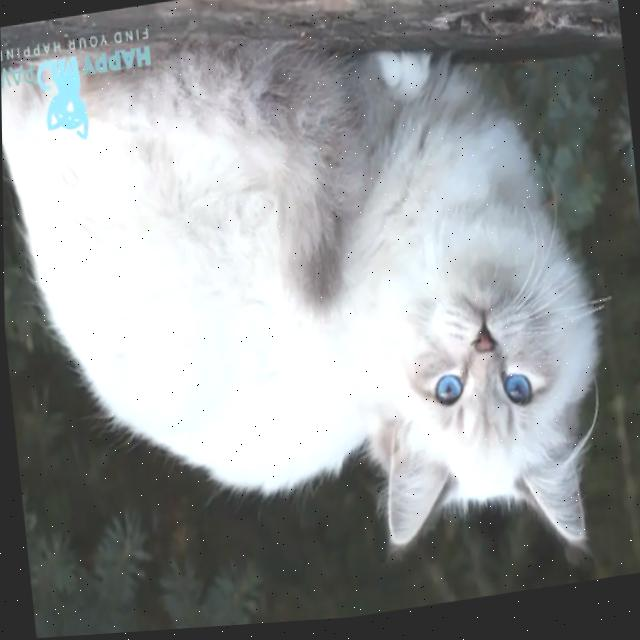Neva Masquerade: (0, 0, 622, 635)
